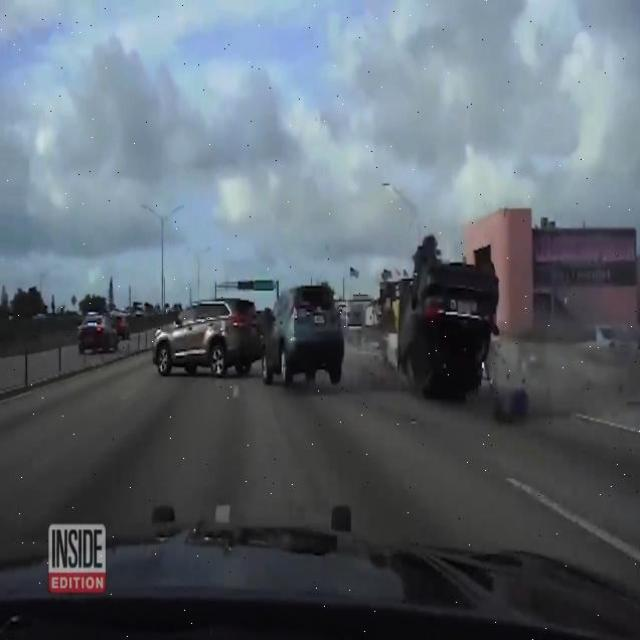accident: (393, 241, 507, 411)
